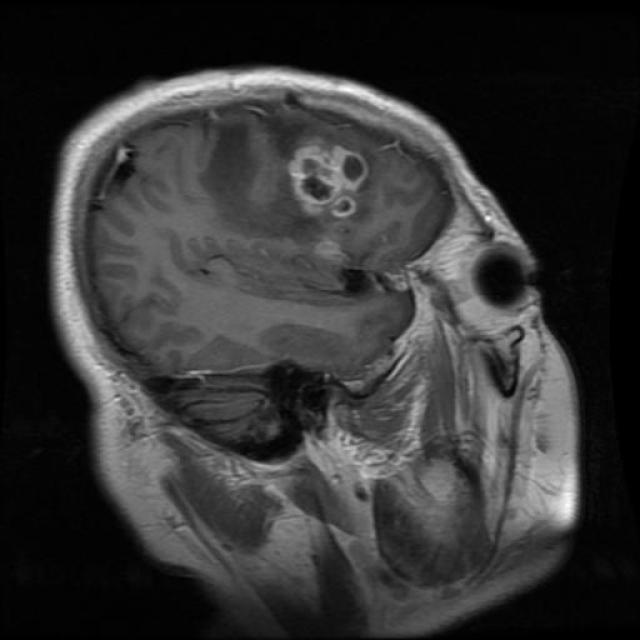glioma: (289, 138, 336, 208), (338, 150, 370, 191), (332, 194, 358, 218)
